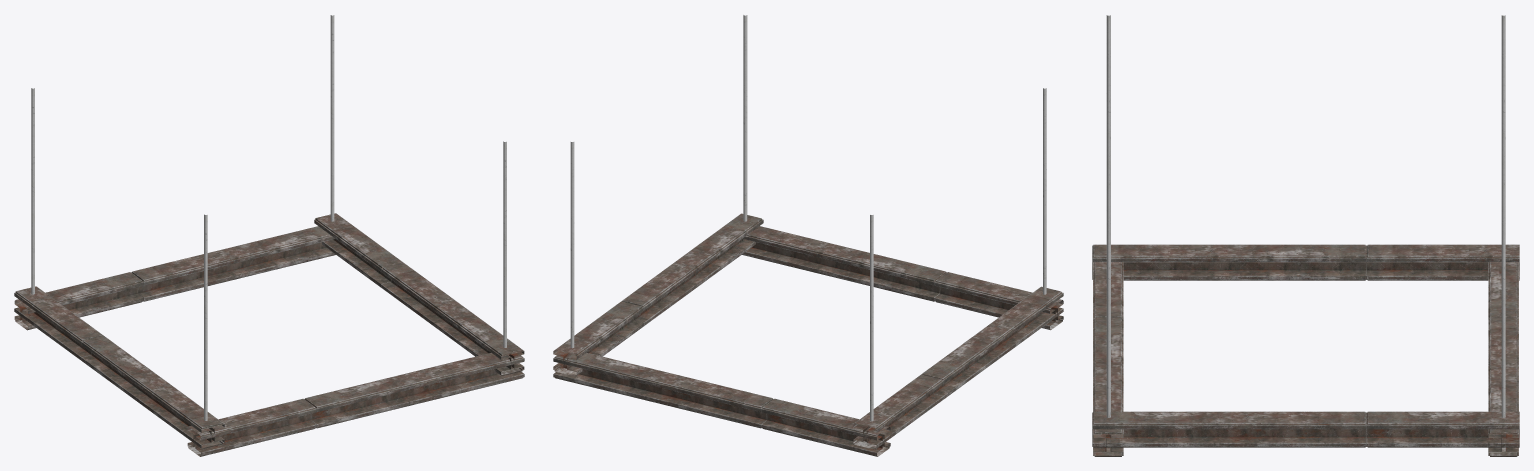
Rendered from SM_Ceiling_Scaffold_Quarter_Empty.glb.
3 renders of one model, left to right at view 1: azimuth 30°, elevation 25°; view 2: azimuth 150°, elevation 25°; view 3: azimuth 270°, elevation 25°, orthographic. The views are drawn at different scales.
Visible parts, largest first — view 1: SM_Ceiling_Scaffold_Quarter_Empty; view 2: SM_Ceiling_Scaffold_Quarter_Empty; view 3: SM_Ceiling_Scaffold_Quarter_Empty.
Boxes of the visible parts, x1,y1,x2,y2 form: SM_Ceiling_Scaffold_Quarter_Empty: [14, 15, 524, 456]; SM_Ceiling_Scaffold_Quarter_Empty: [553, 15, 1063, 456]; SM_Ceiling_Scaffold_Quarter_Empty: [1092, 15, 1519, 456].
Bounding box in the file's own units: 1.35 × 0.9392 × 1.35.
Materials: 2 (2 with a texture image).
